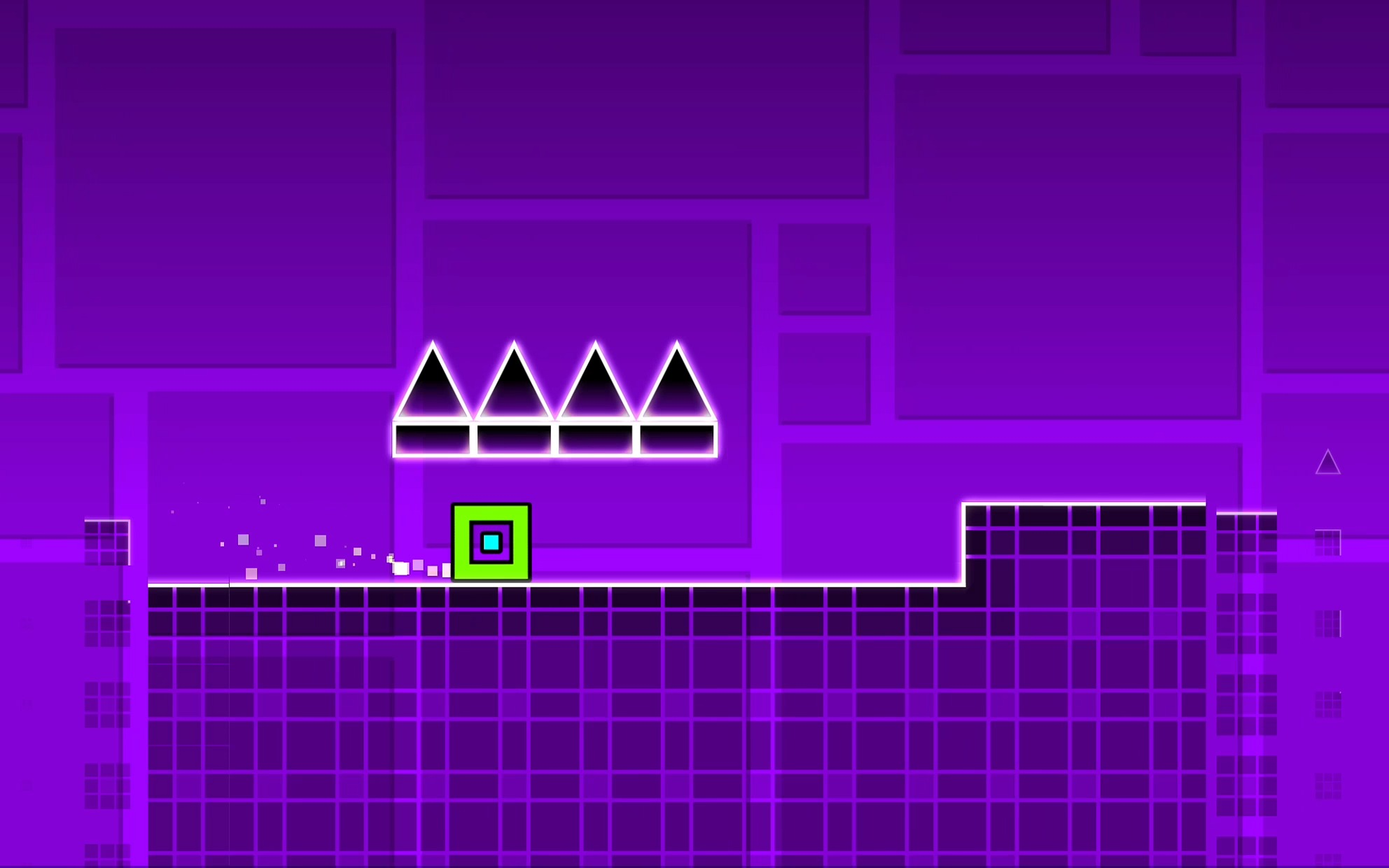Block2: (139, 584, 966, 856), (968, 503, 1275, 868), (76, 515, 139, 868)
Block3: (638, 420, 716, 460), (554, 419, 633, 458), (393, 420, 474, 456), (470, 424, 552, 457)
Player: (450, 503, 529, 580)
Spike: (638, 342, 715, 419), (395, 342, 470, 419), (477, 342, 550, 417), (559, 340, 631, 416)
